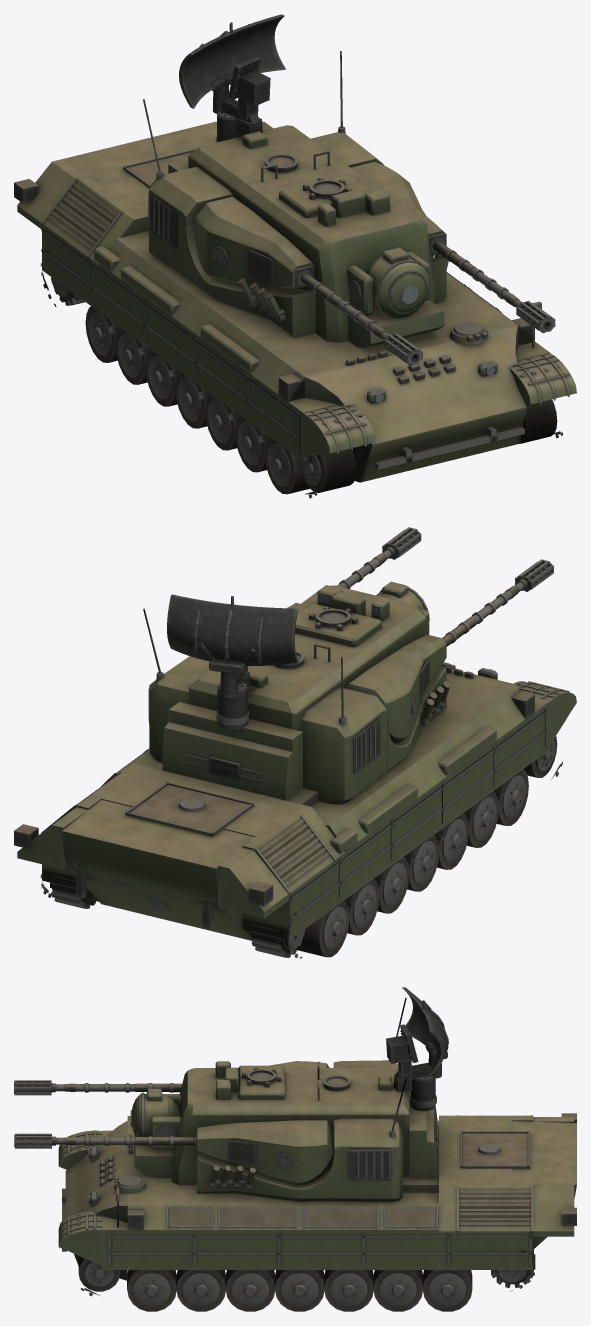
The model's file is Gepard.glb.
3 renders of one model, top to bottom at view 1: azimuth 30°, elevation 25°; view 2: azimuth 150°, elevation 25°; view 3: azimuth 270°, elevation 25°, orthographic. The views are drawn at different scales.
Parts seen in each view (by area): view 1: Wanne, turret, cannon, radar, radR8, radR7, radR5, radR4, radR6, radR3, radR2, radR1 (+1 smaller); view 2: Wanne, turret, radar, cannon, radR1, radR2, radR3, radR6, radR4, radR5, radR7, radR0 (+2 smaller); view 3: Wanne, turret, cannon, radar, radL2, radL4, radL6, radL3, radL5, radL1, radL7, radL8 (+1 smaller).
Part boxes in pixels (bbox=[...]): Wanne: bbox=[14, 121, 576, 482]; turret: bbox=[143, 51, 448, 347]; cannon: bbox=[194, 162, 555, 365]; radar: bbox=[179, 14, 285, 142]; radR8: bbox=[300, 448, 356, 498]; radR7: bbox=[262, 437, 309, 494]; radR5: bbox=[202, 393, 240, 450]; radR4: bbox=[172, 372, 210, 428]; radR6: bbox=[232, 415, 269, 472]; radR3: bbox=[142, 350, 180, 406]; radR2: bbox=[112, 328, 150, 384]; radR1: bbox=[85, 306, 120, 362]; Wanne: bbox=[14, 603, 576, 940]; turret: bbox=[143, 581, 450, 804]; radar: bbox=[167, 594, 298, 729]; cannon: bbox=[286, 527, 553, 743]; radR1: bbox=[296, 901, 351, 957]; radR2: bbox=[344, 879, 381, 935]; radR3: bbox=[374, 857, 411, 913]; radR6: bbox=[464, 791, 501, 847]; radR4: bbox=[404, 835, 441, 891]; radR5: bbox=[434, 813, 471, 869]; radR7: bbox=[493, 769, 528, 825]; radR0: bbox=[250, 914, 305, 958]; Wanne: bbox=[58, 1113, 576, 1280]; turret: bbox=[130, 997, 437, 1201]; cannon: bbox=[14, 1061, 332, 1185]; radar: bbox=[386, 987, 448, 1111]; radL2: bbox=[373, 1270, 422, 1311]; radL4: bbox=[275, 1270, 324, 1311]; radL6: bbox=[176, 1270, 225, 1311]; radL3: bbox=[324, 1270, 373, 1311]; radL5: bbox=[225, 1270, 275, 1311]; radL1: bbox=[422, 1270, 472, 1311]; radL7: bbox=[127, 1270, 176, 1311]; radL8: bbox=[78, 1256, 120, 1296].
Size of the model in its own units: 3.24 by 3.96 by 7.67.
4 materials, 4 textured.
